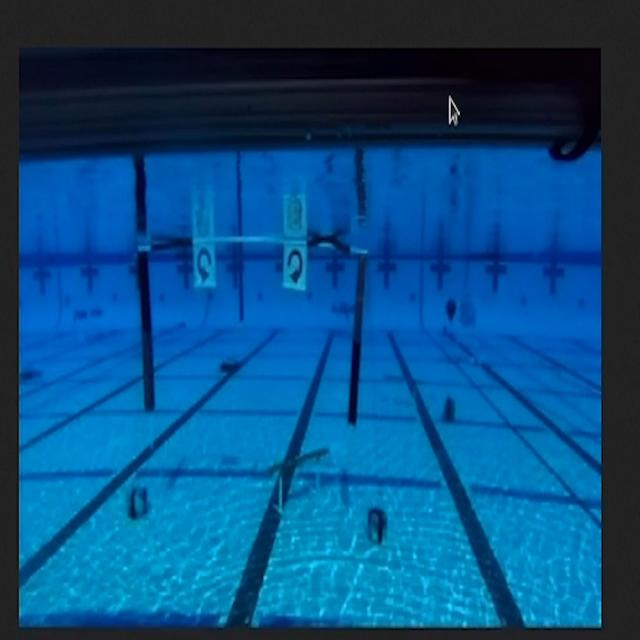Gate: (129, 234, 375, 432)
